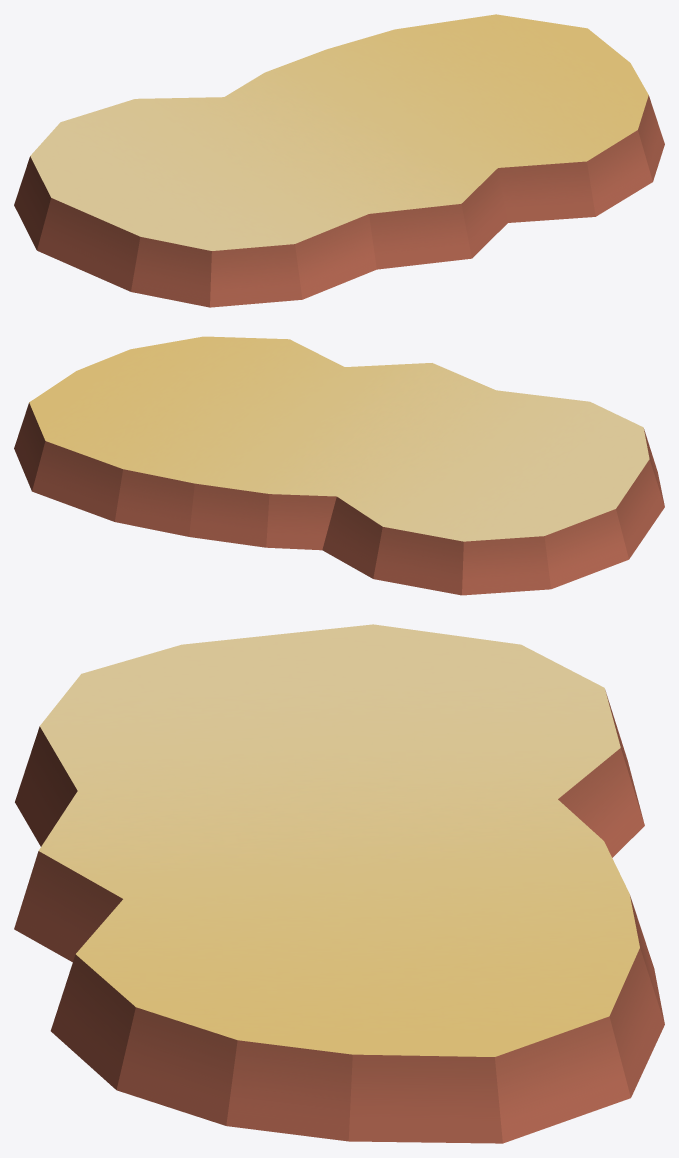
The model's file is cliff6.2.fbx.
The picture shows the model from 3 angles, top to bottom: view 1: azimuth 30°, elevation 25°; view 2: azimuth 150°, elevation 25°; view 3: azimuth 270°, elevation 25°; orthographic projection. The views are drawn at different scales.
Visible parts, largest first — view 1: cliff6.2; view 2: cliff6.2; view 3: cliff6.2.
Boxes of the visible parts, x1,y1,x2,y2 form: cliff6.2: (14,14,664,307); cliff6.2: (14,336,664,595); cliff6.2: (14,624,664,1143).
Size of the model in its own units: 7.8 by 0.6139 by 4.74.
